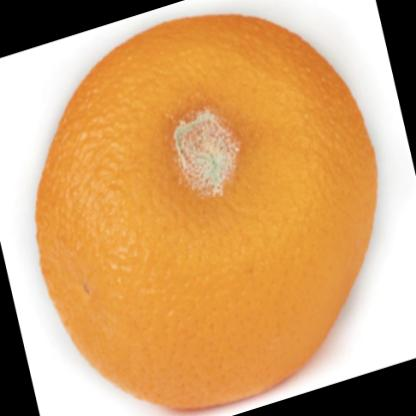rotten: (35, 16, 376, 409)
